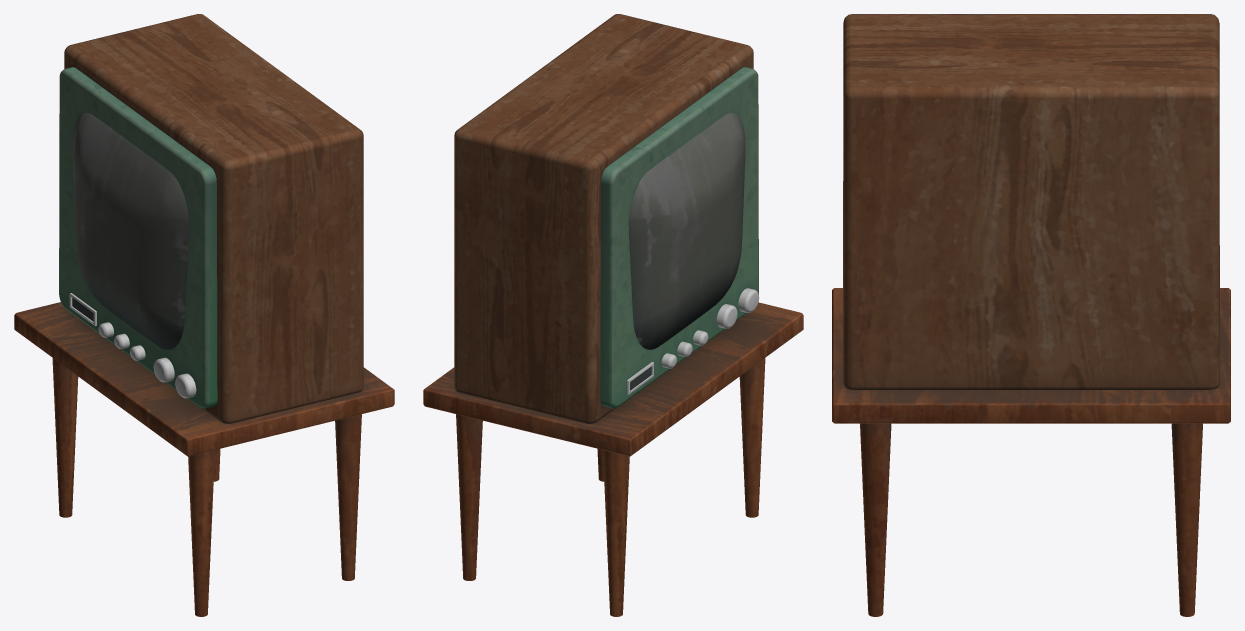
The model's file is SM_TVSet.fbx.
3 renders of one model, left to right at view 1: azimuth 30°, elevation 25°; view 2: azimuth 150°, elevation 25°; view 3: azimuth 270°, elevation 25°, orthographic. The views are drawn at different scales.
Parts seen in each view (by area): view 1: SM_TVSet_LOD0; view 2: SM_TVSet_LOD0; view 3: SM_TVSet_LOD0.
Boxes of the visible parts, x1,y1,x2,y2 form: SM_TVSet_LOD0: (14,14,394,616); SM_TVSet_LOD0: (423,14,803,616); SM_TVSet_LOD0: (832,14,1230,616).
Bounding box in the file's own units: 53.91 × 77.74 × 113.
Materials: 1 (1 with a texture image).
